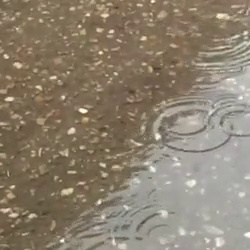drop: (151, 96, 232, 154), (178, 4, 245, 54), (114, 205, 184, 250), (208, 103, 250, 135), (164, 106, 207, 136)
